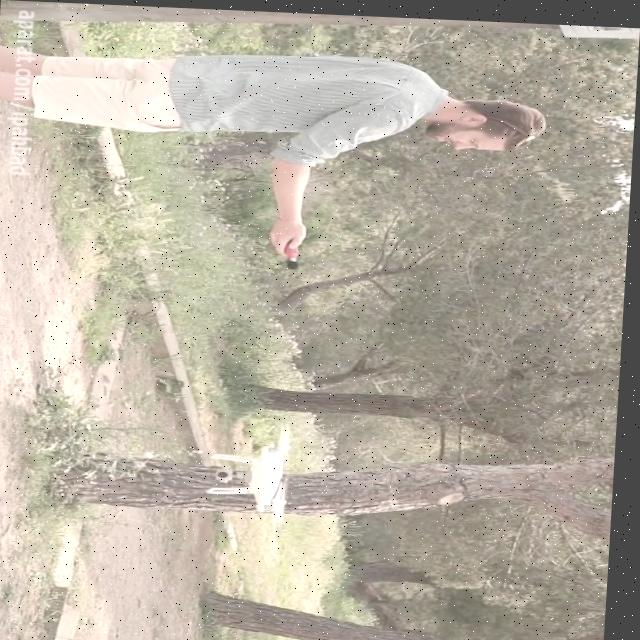drone: (210, 419, 301, 529)
